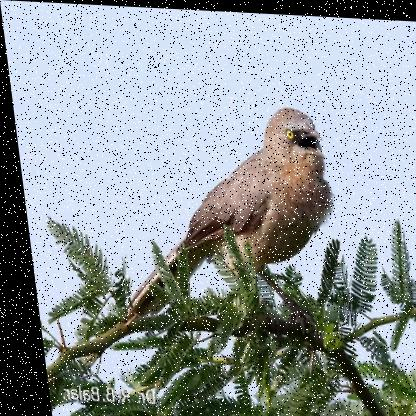Burung: (45, 94, 346, 381)
